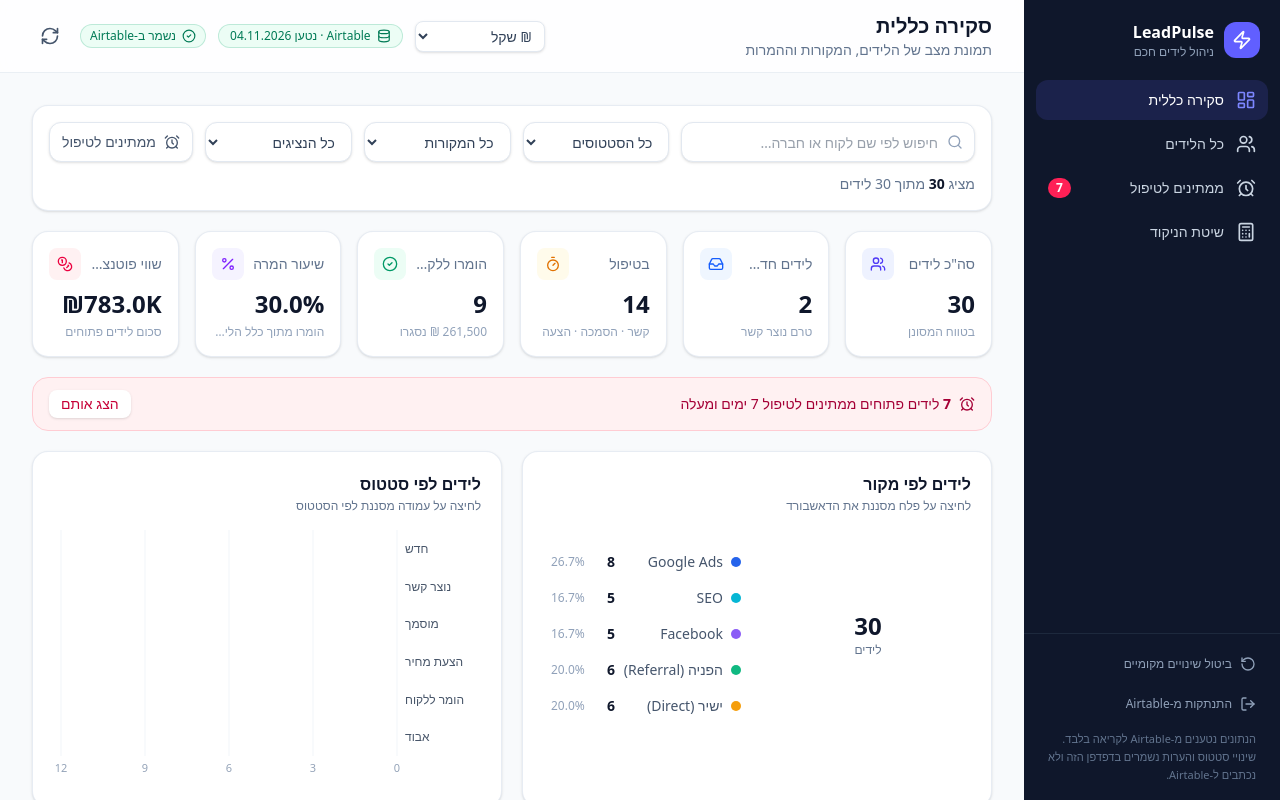
it: useAirtableSync (SPEC X2) › 403 is not retried and asks for data.records:write
Click the button "כל הלידים" at [1152, 144], box [1036, 124, 1268, 164]
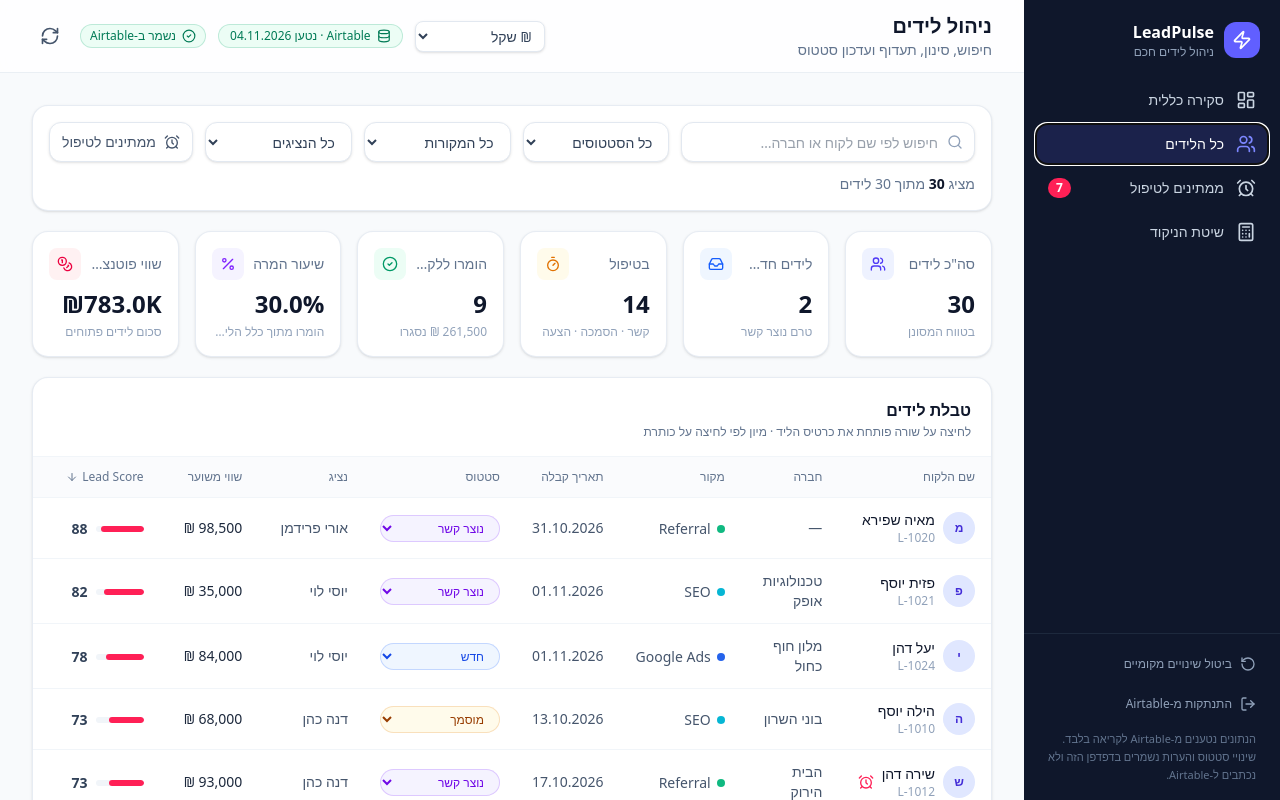
Select "הומר ללקוח" in the dropdown named "שינוי סטטוס עבור" at [440, 528], box [380, 514, 500, 542]
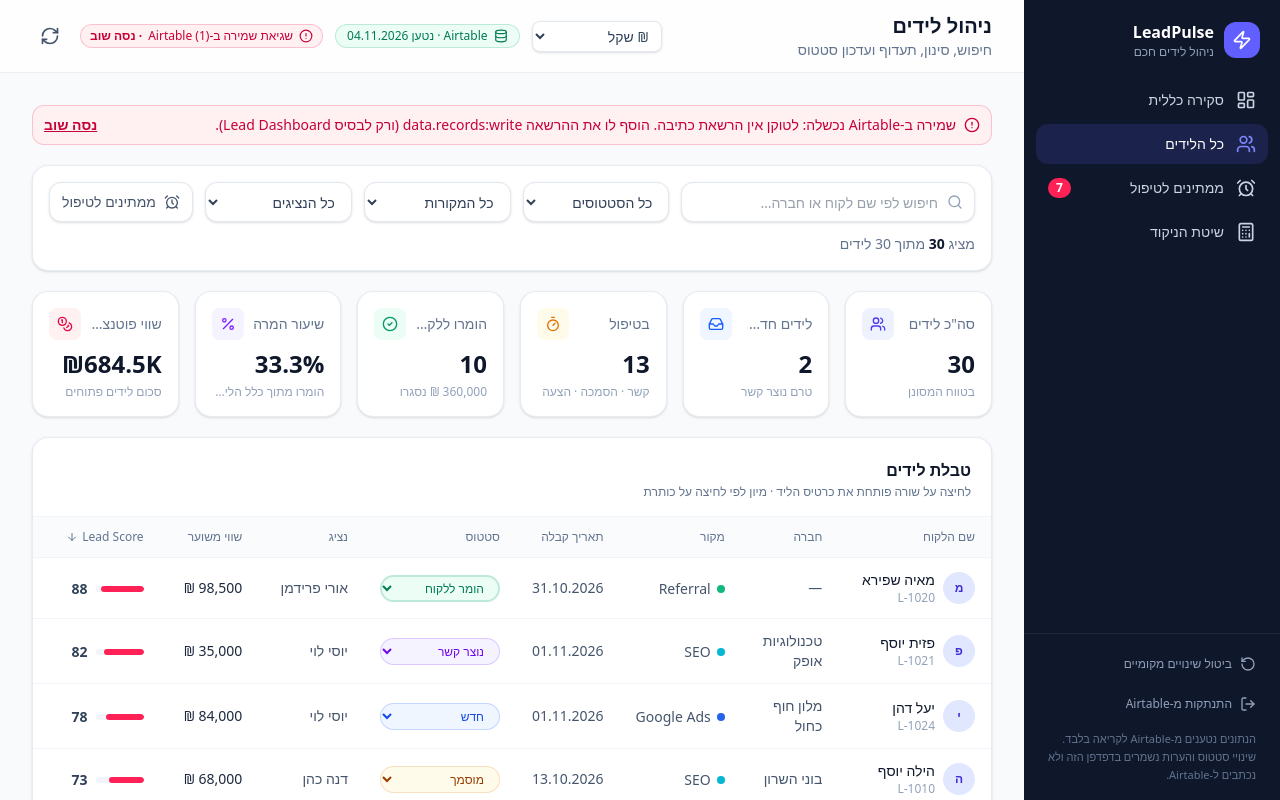
Check: the message with test id "sync-error" shows "data.records:write", box [215, 115, 799, 134]
